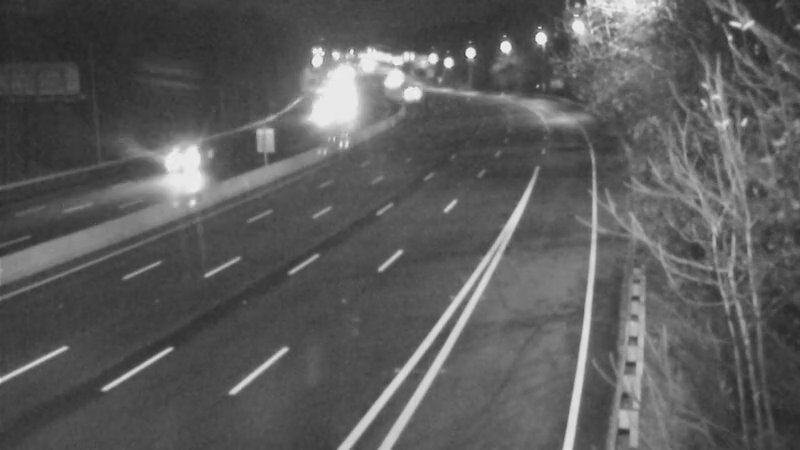vehicle: (154, 119, 234, 199), (387, 66, 437, 116)
